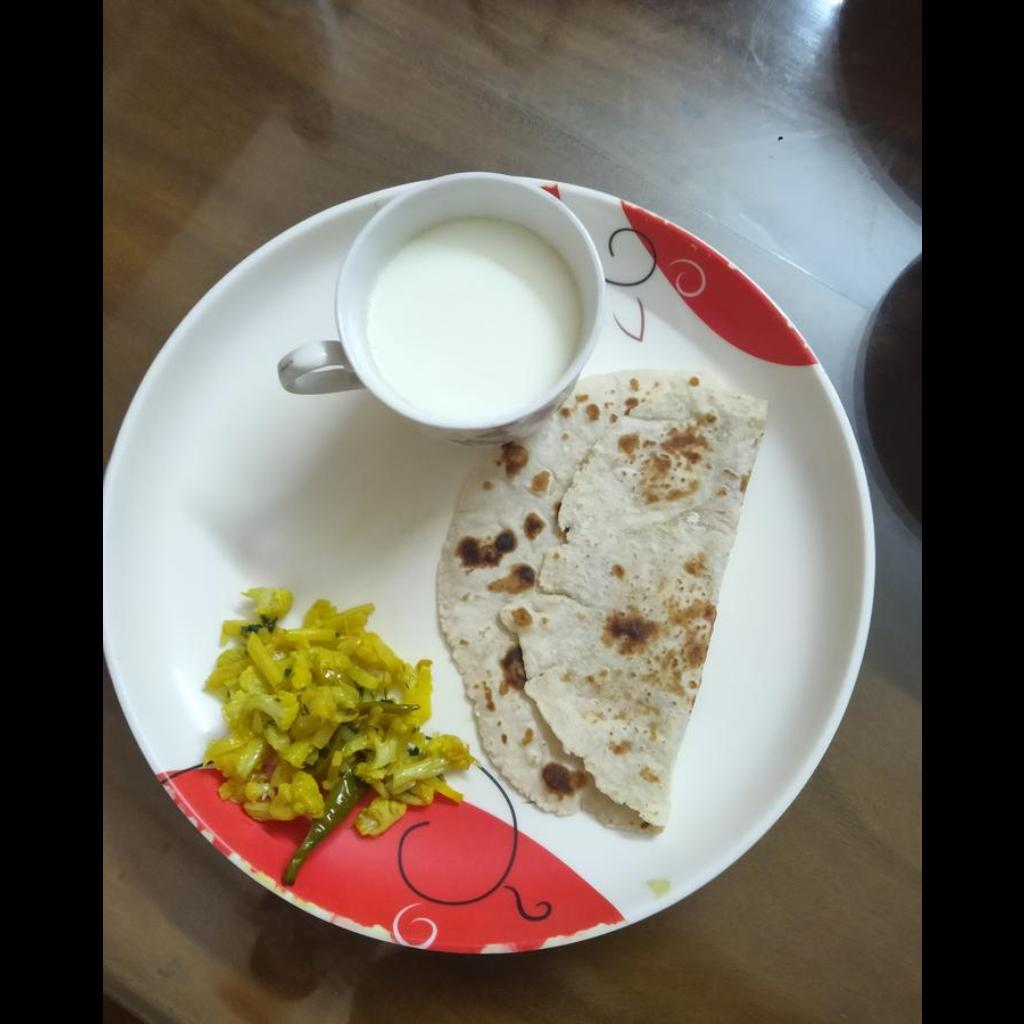milk: (362, 219, 587, 417)
ruti: (433, 370, 766, 831)
vaji: (198, 588, 462, 845)
